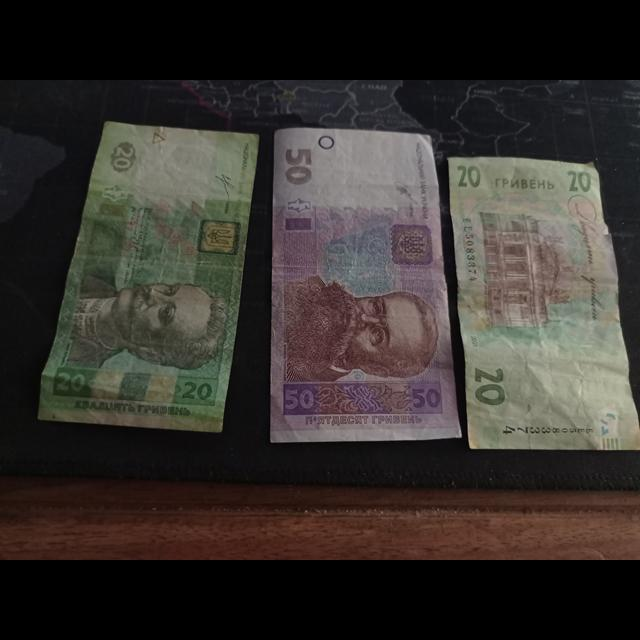20uah: (38, 120, 260, 434), (448, 157, 640, 449)
50uah: (273, 129, 464, 443)
